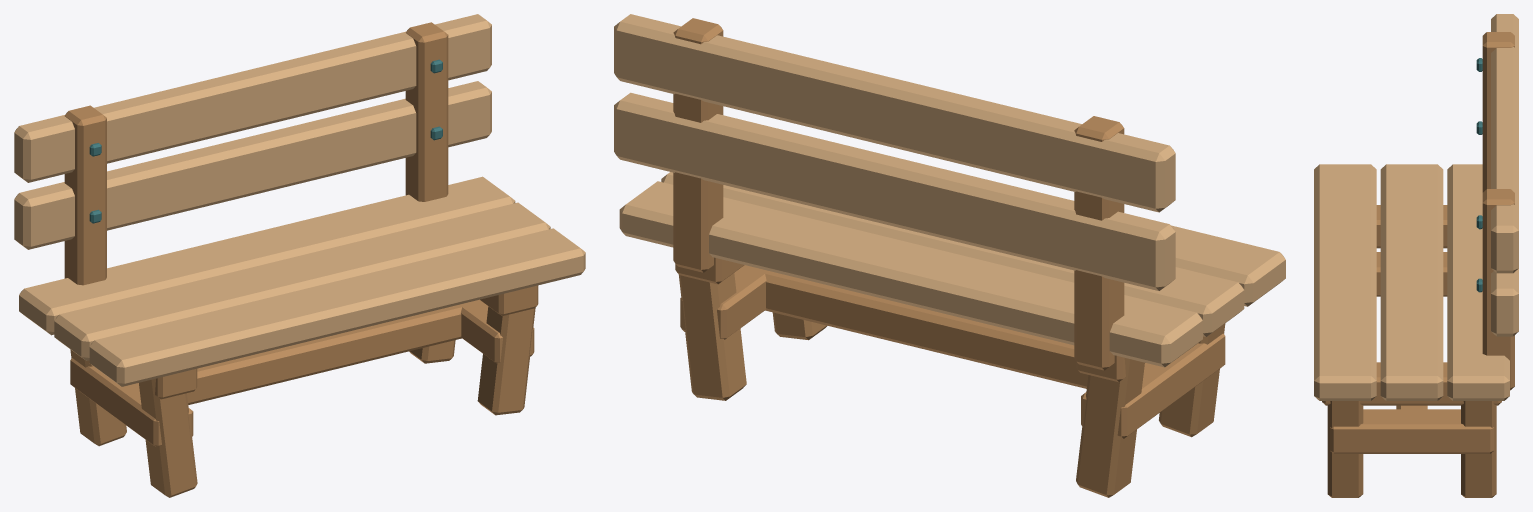
The picture shows the model from 3 angles, left to right: view 1: azimuth 30°, elevation 25°; view 2: azimuth 150°, elevation 25°; view 3: azimuth 270°, elevation 25°; orthographic projection. The views are drawn at different scales.
Visible parts, largest first — view 1: harbor-bench-01; view 2: harbor-bench-01; view 3: harbor-bench-01.
Part boxes in pixels (x1,y1,x2,y2): harbor-bench-01: (14, 14, 585, 497); harbor-bench-01: (614, 14, 1285, 497); harbor-bench-01: (1314, 14, 1518, 497).
Size of the model in its own units: 1.65 by 1.07 by 0.661.
